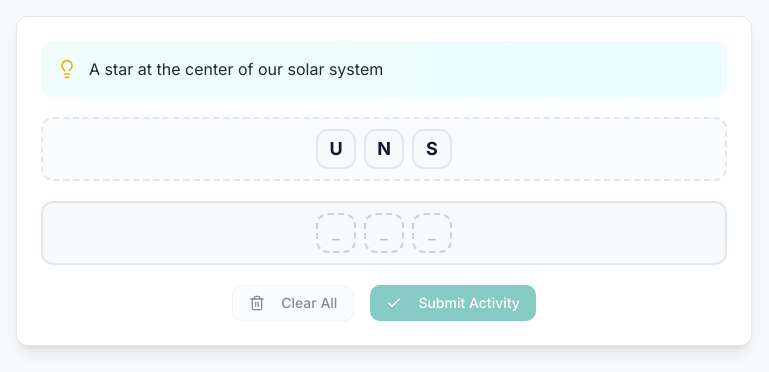
Test: WordBuilderPlayer › letter placement (click-to-place) › shows 'All letters placed' when letter bank is empty
The image size is (769, 372).
# Place all letters (n, u, s)
Click the button "n".
click(384, 149)  # box [364, 129, 404, 169]
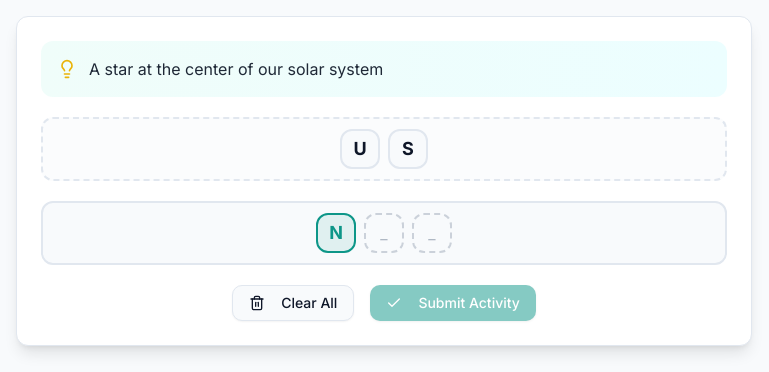
Click the button "u".
click(360, 149)  # box [340, 129, 380, 169]
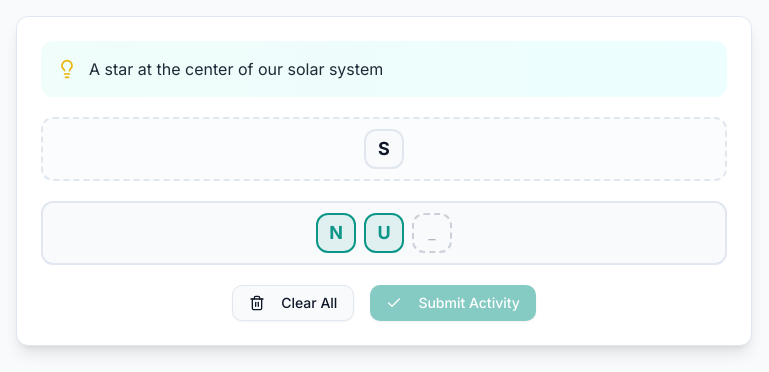
Click the button "s".
click(384, 149)  # box [364, 129, 404, 169]
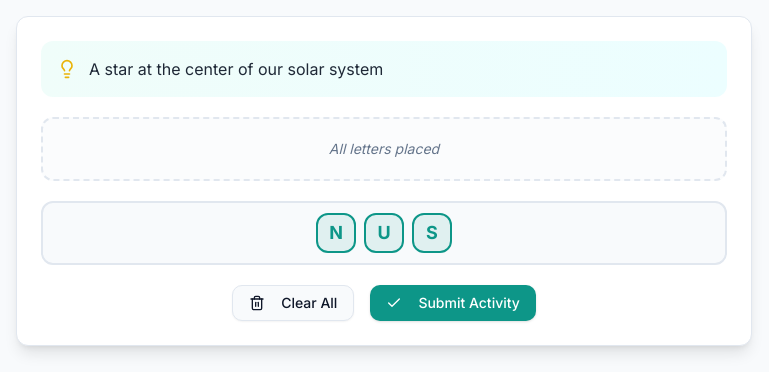
expect the text "All letters placed" is shown: met, box [329, 139, 439, 159]
